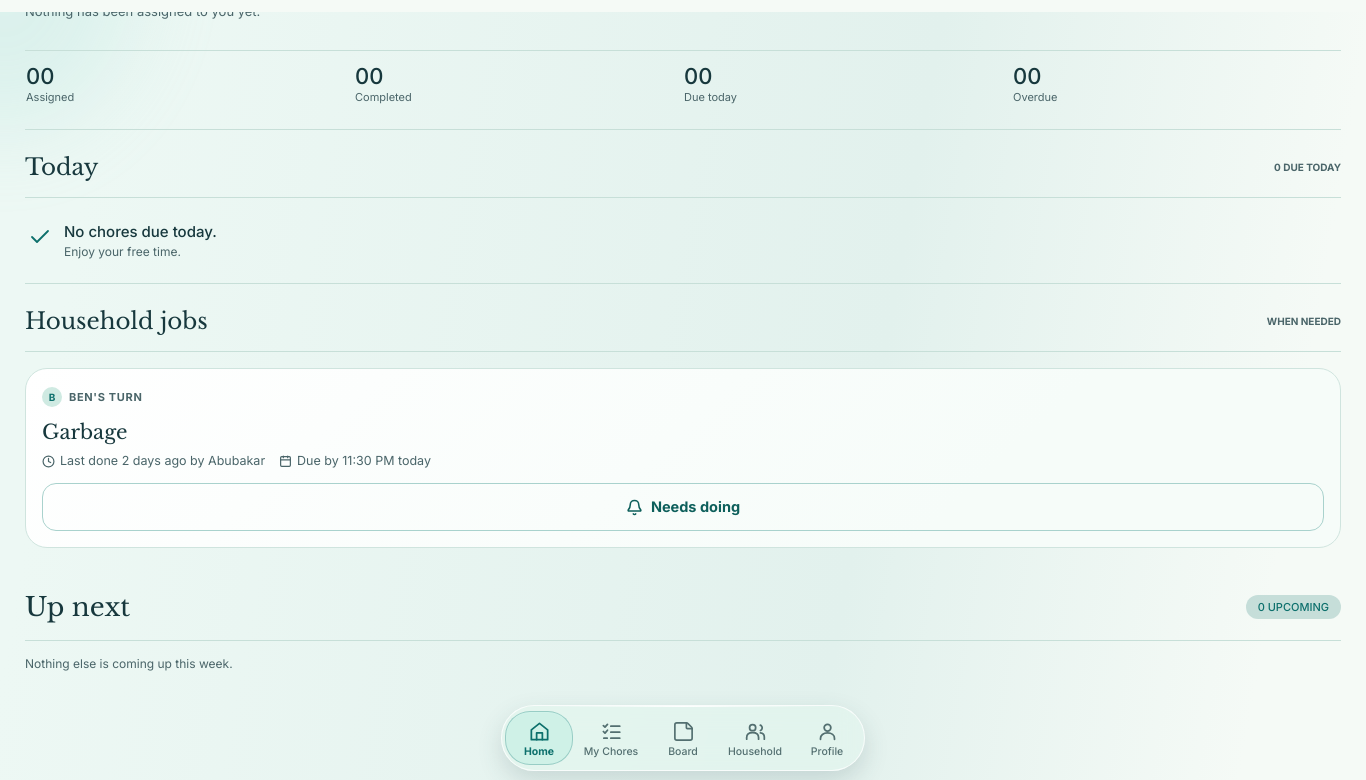
Test: household jobs (When needed) on Home and My Chores › shows Reminder sent at once, and Already asked then the server's flag after a 409
The image size is (1366, 780).
Later steps or results of the test are not shown.
(page scrolled)
Expected: the heading "Today" is shown, [25, 154, 98, 182]
Step 1. Click the button with aria-label "Needs doing: Garbage" → [683, 507], box [42, 483, 1324, 531]
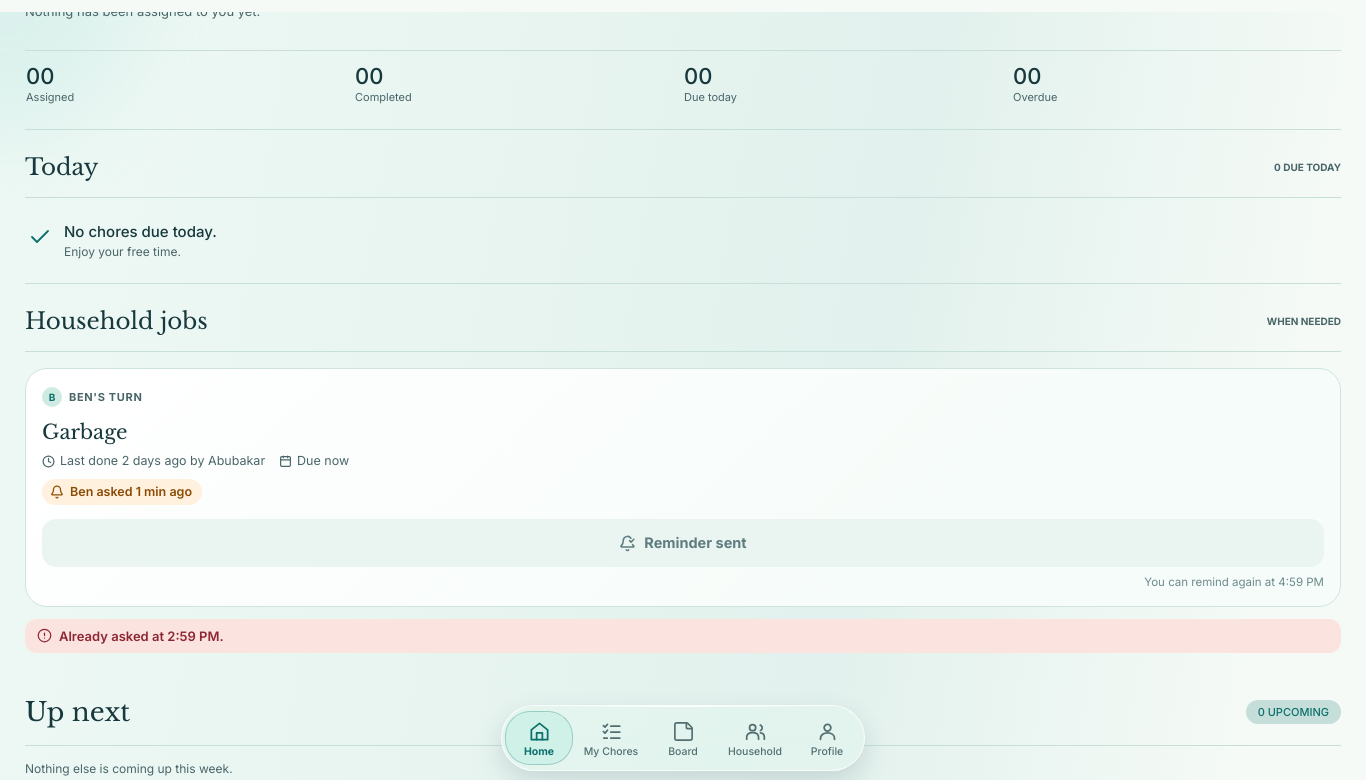
Result: the list item "Due now" is shown at [279, 453, 349, 469]
Result: the text "Ben asked 1 min ago" is shown at [42, 479, 202, 505]
Result: the text "You can remind again at 4:59 PM" is shown at [1144, 575, 1324, 589]
